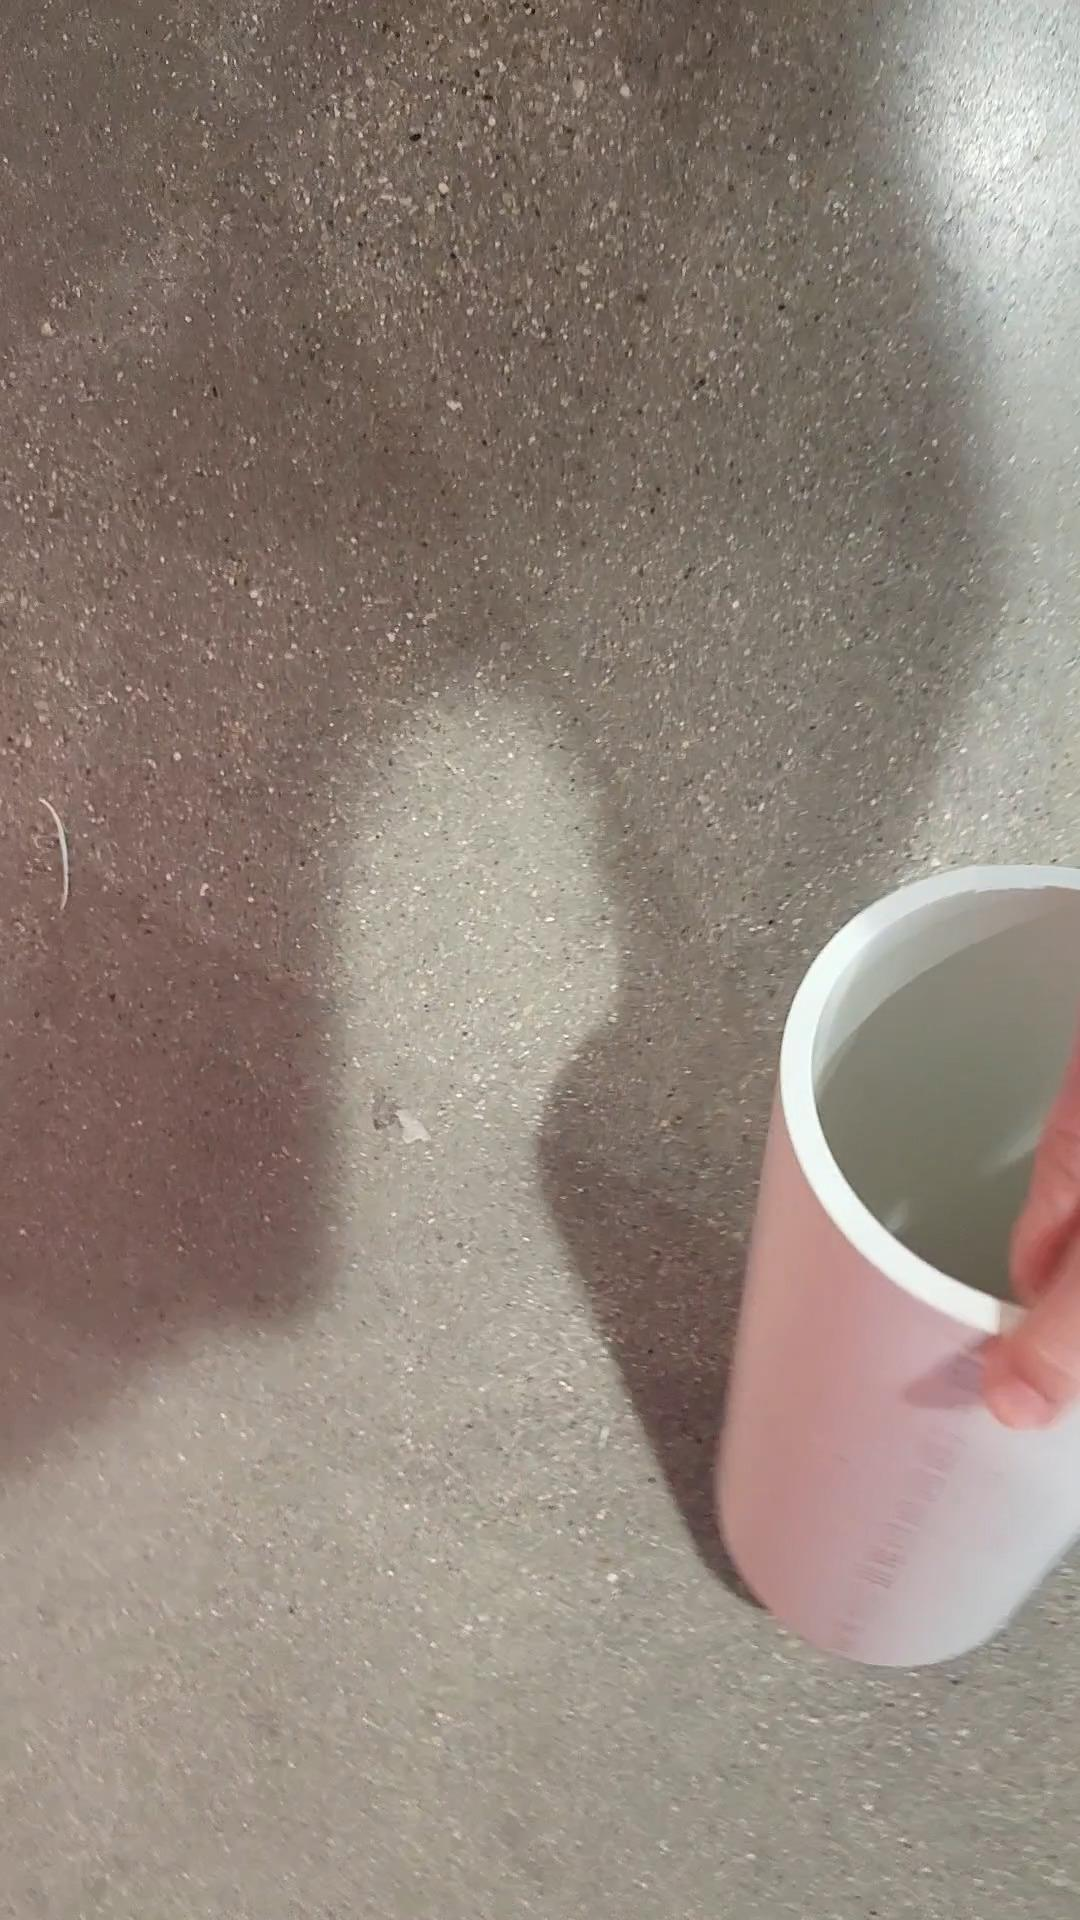coral: (723, 837, 1080, 1685)
